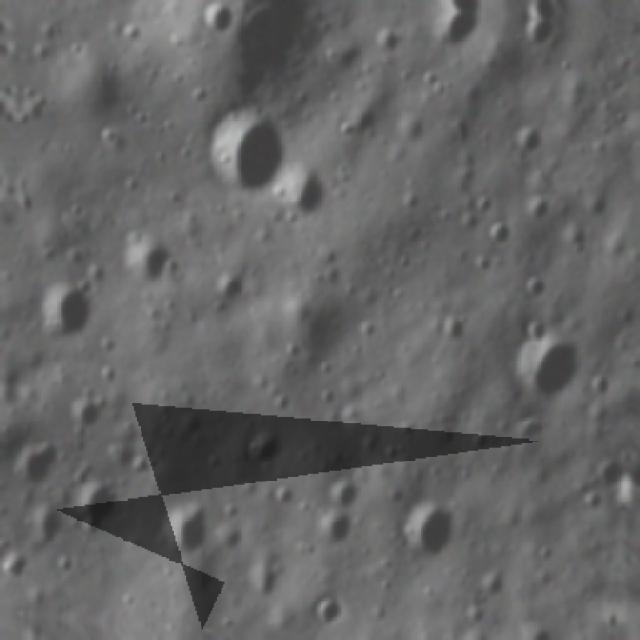crater: (198, 103, 291, 206), (512, 316, 580, 413), (396, 505, 461, 566), (37, 282, 94, 348), (72, 481, 126, 548), (160, 493, 212, 561), (118, 235, 174, 290), (273, 167, 332, 213), (7, 440, 58, 491), (205, 265, 249, 318), (428, 11, 484, 52), (241, 421, 279, 474), (26, 503, 66, 552), (65, 396, 106, 438), (309, 593, 349, 632), (196, 0, 237, 38), (516, 20, 559, 55), (324, 476, 368, 510), (508, 122, 546, 161), (351, 100, 383, 142), (317, 512, 360, 542), (435, 309, 471, 343), (592, 453, 623, 490), (513, 620, 569, 640), (478, 566, 514, 596), (490, 218, 516, 254), (372, 27, 402, 56), (574, 490, 604, 518), (270, 483, 292, 519)
